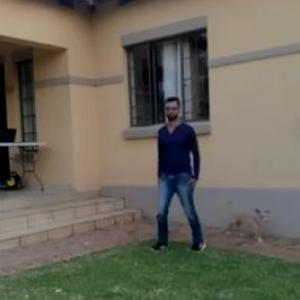follow: (156, 95, 209, 255)
